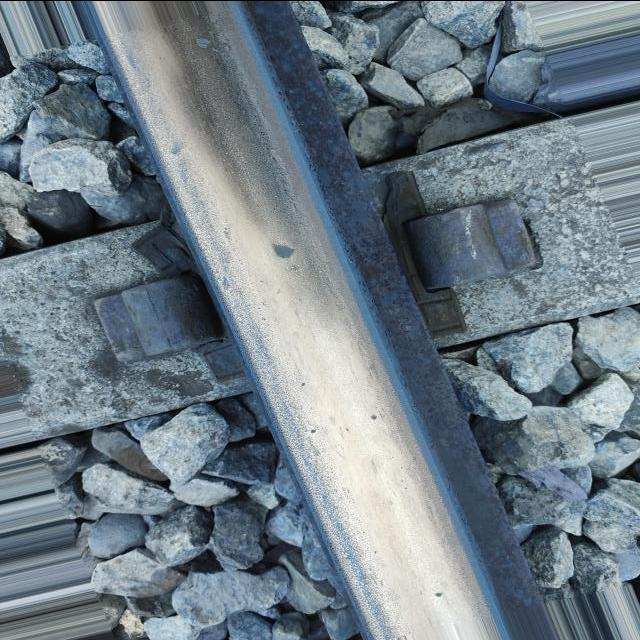squats_high: (268, 241, 299, 261), (359, 408, 384, 424), (191, 33, 213, 51), (306, 425, 319, 434), (434, 589, 448, 597)
